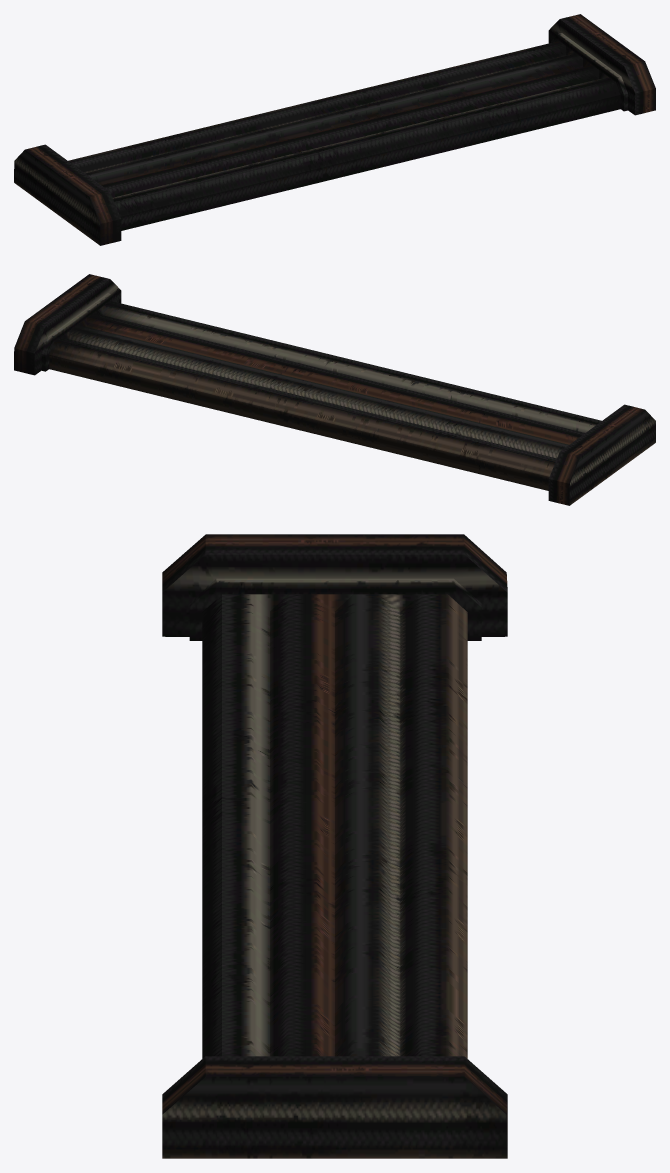
Rendered from wall_cables_short.dae.
3 views of the same model, one above another, from view 1: azimuth 30°, elevation 25°; view 2: azimuth 150°, elevation 25°; view 3: azimuth 270°, elevation 25° (orthographic). The views are drawn at different scales.
Parts seen in each view (by area): view 1: polySurface818; view 2: polySurface818; view 3: polySurface818.
Boxes of the visible parts, x1,y1,x2,y2 form: polySurface818: (14, 14, 655, 245); polySurface818: (14, 274, 655, 505); polySurface818: (162, 534, 507, 1158).
Size of the model in its own units: 1 by 0.0706 by 0.2695.
